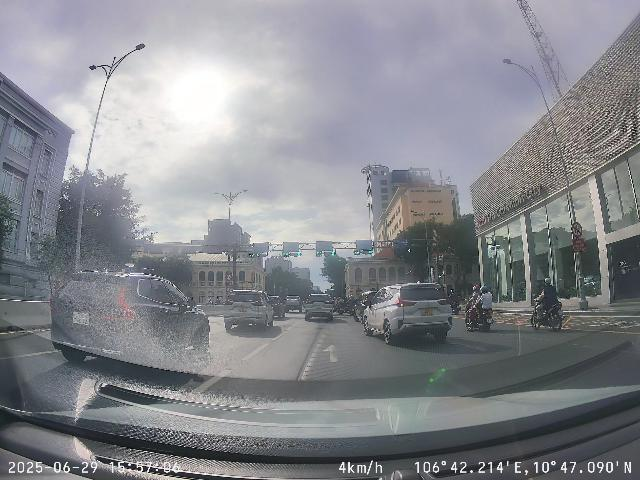124b-cam-oto-quay-dau-xe: (571, 222, 583, 238)
